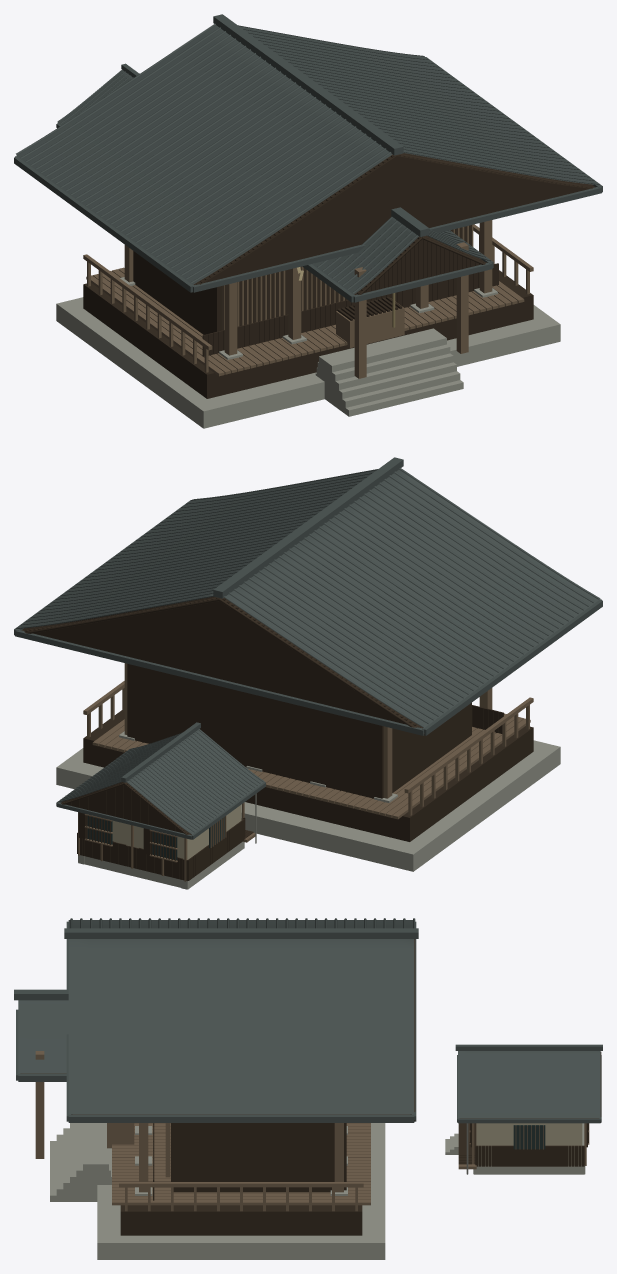
The model's file is shrine.glb.
3 views of the same model, one above another, from view 1: azimuth 30°, elevation 25°; view 2: azimuth 150°, elevation 25°; view 3: azimuth 270°, elevation 25° (orthographic). The views are drawn at different scales.
Visible parts, largest first — view 1: roof, darkwood, stone, wood; view 2: roof, darkwood, stone, wood, plaster, glass; view 3: roof, darkwood, stone, wood, plaster, glass.
Boxes of the visible parts, x1=… form: roof: x1=14, y1=14, x2=602, y2=302; darkwood: x1=83, y1=153, x2=594, y2=398; stone: x1=56, y1=277, x2=560, y2=428; wood: x1=83, y1=220, x2=533, y2=378; roof: x1=14, y1=457, x2=602, y2=839; darkwood: x1=21, y1=596, x2=533, y2=881; stone: x1=56, y1=731, x2=560, y2=889; wood: x1=78, y1=663, x2=533, y2=881; plaster: x1=112, y1=804, x2=241, y2=859; glass: x1=87, y1=816, x2=224, y2=860; roof: x1=14, y1=918, x2=602, y2=1123; darkwood: x1=20, y1=939, x2=601, y2=1235; stone: x1=50, y1=1123, x2=585, y2=1259; wood: x1=35, y1=1051, x2=589, y2=1211; plaster: x1=476, y1=1123, x2=582, y2=1165; glass: x1=513, y1=1125, x2=545, y2=1149.
Bounding box in the file's own units: 16.17 × 9.36 × 20.46.
